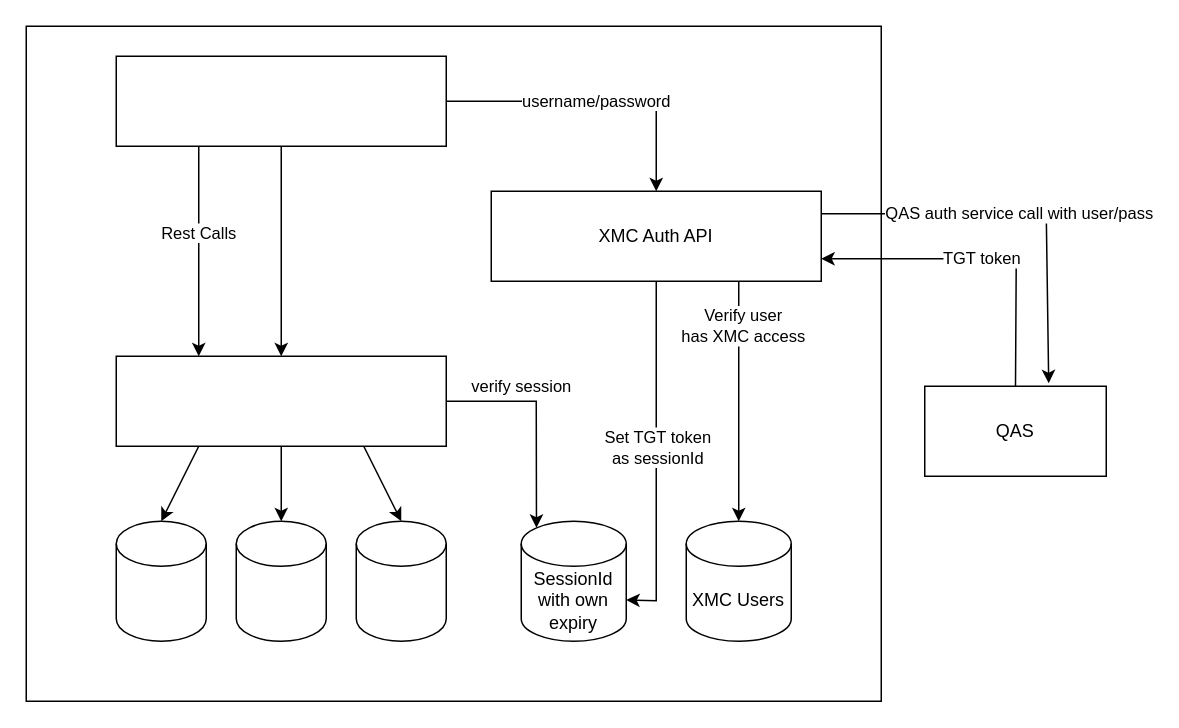
The diagram is 1179 pixels wide and 728 high, and some of its shapes have lost their labels. The shapes that lost their labels are listed below. From the top down, each one's centre as x and y in pixels, then its label:
pixel 280 100: XMC UI
pixel 280 400: XMC Apis
